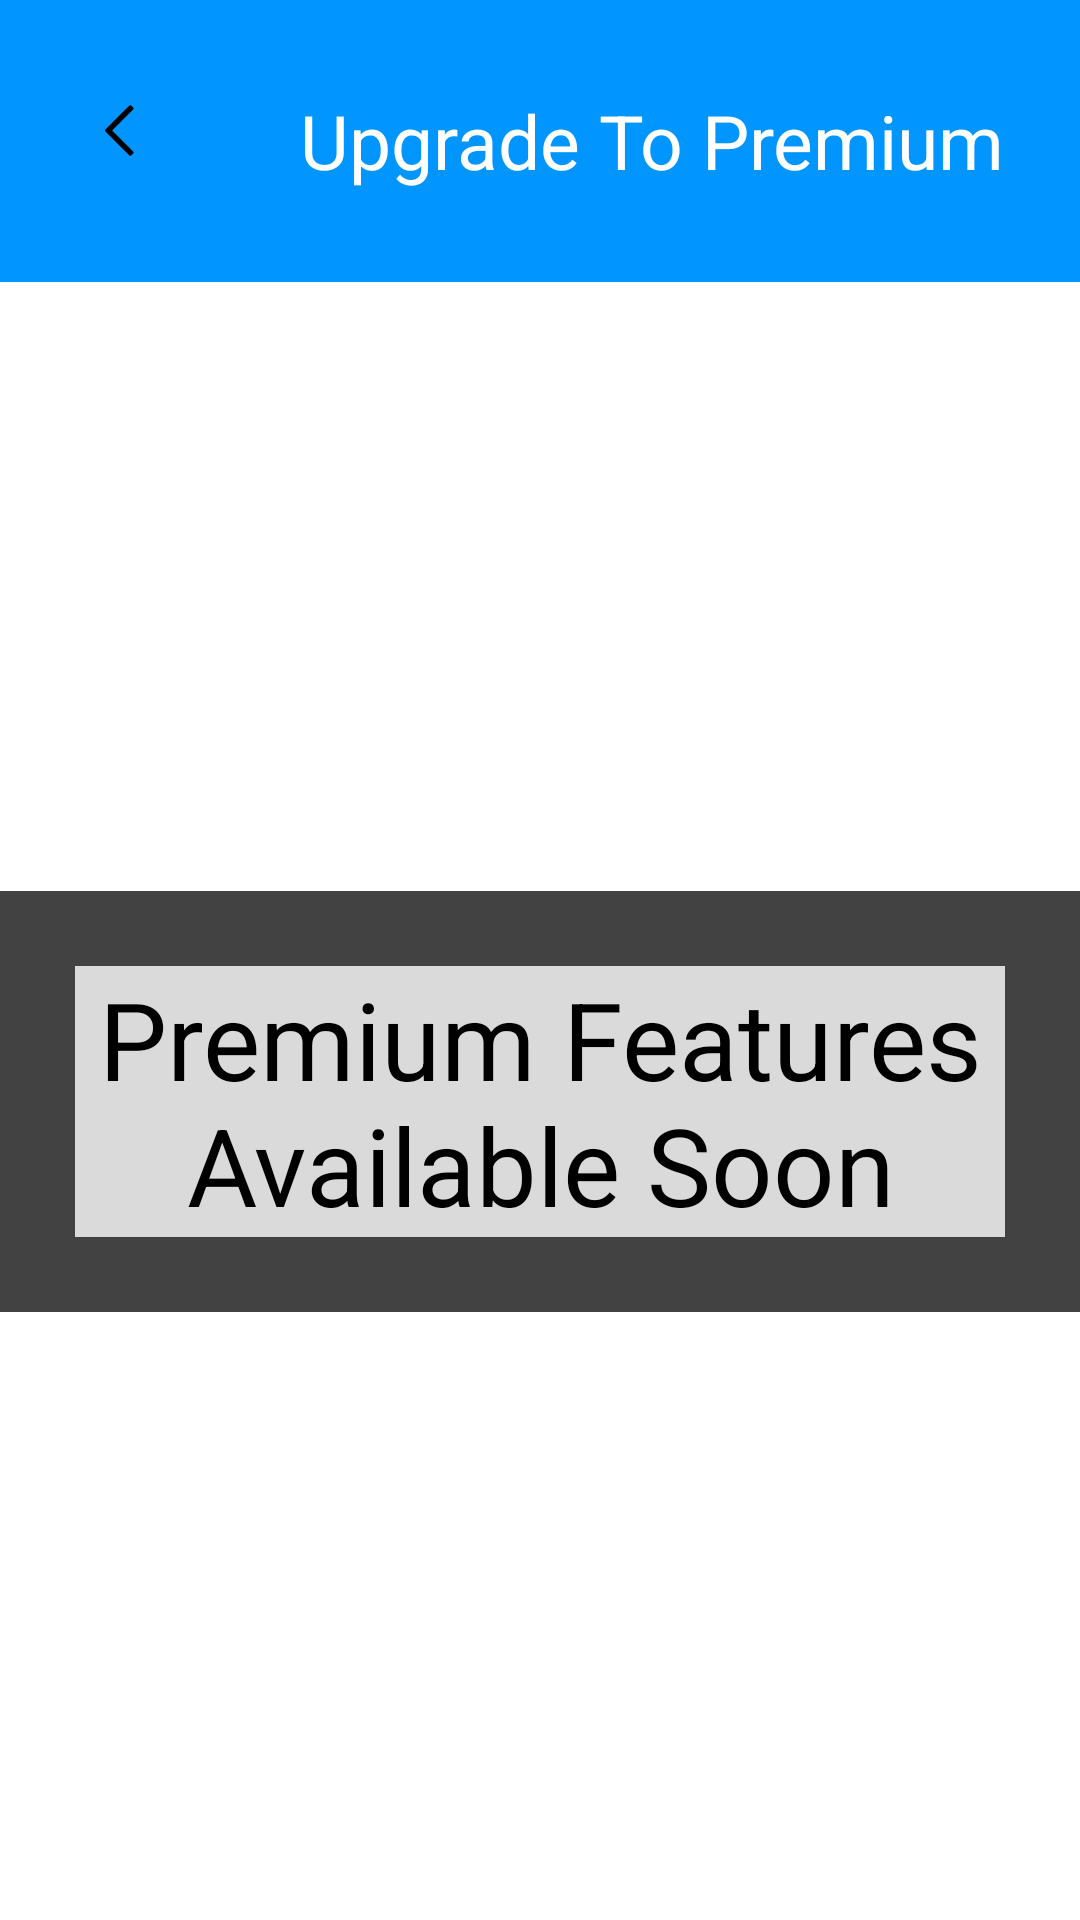

Point at icon controls on the screen. Image size 1080 x 1920, points as (x=x, y=y).
back arrow: (x=119, y=130)
